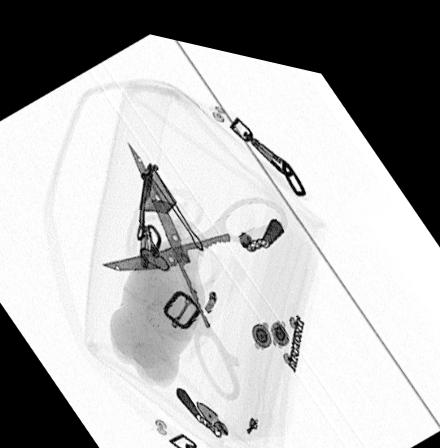Scissors: (101, 131, 286, 389)
